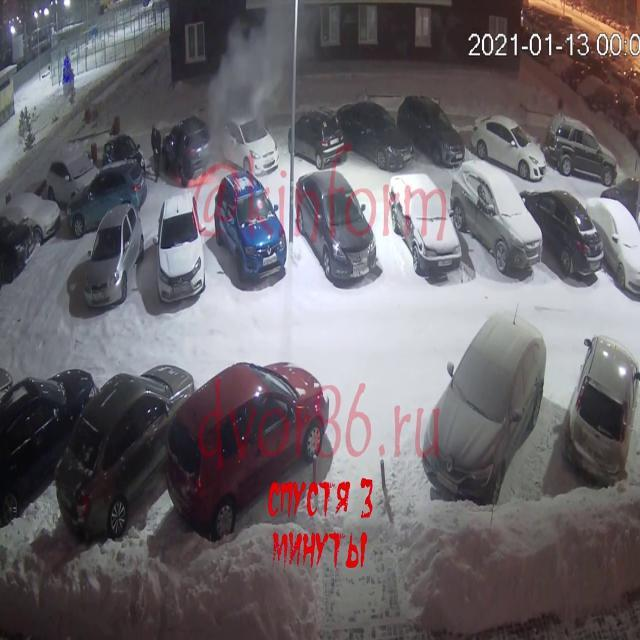Smoke: (196, 0, 346, 157)
